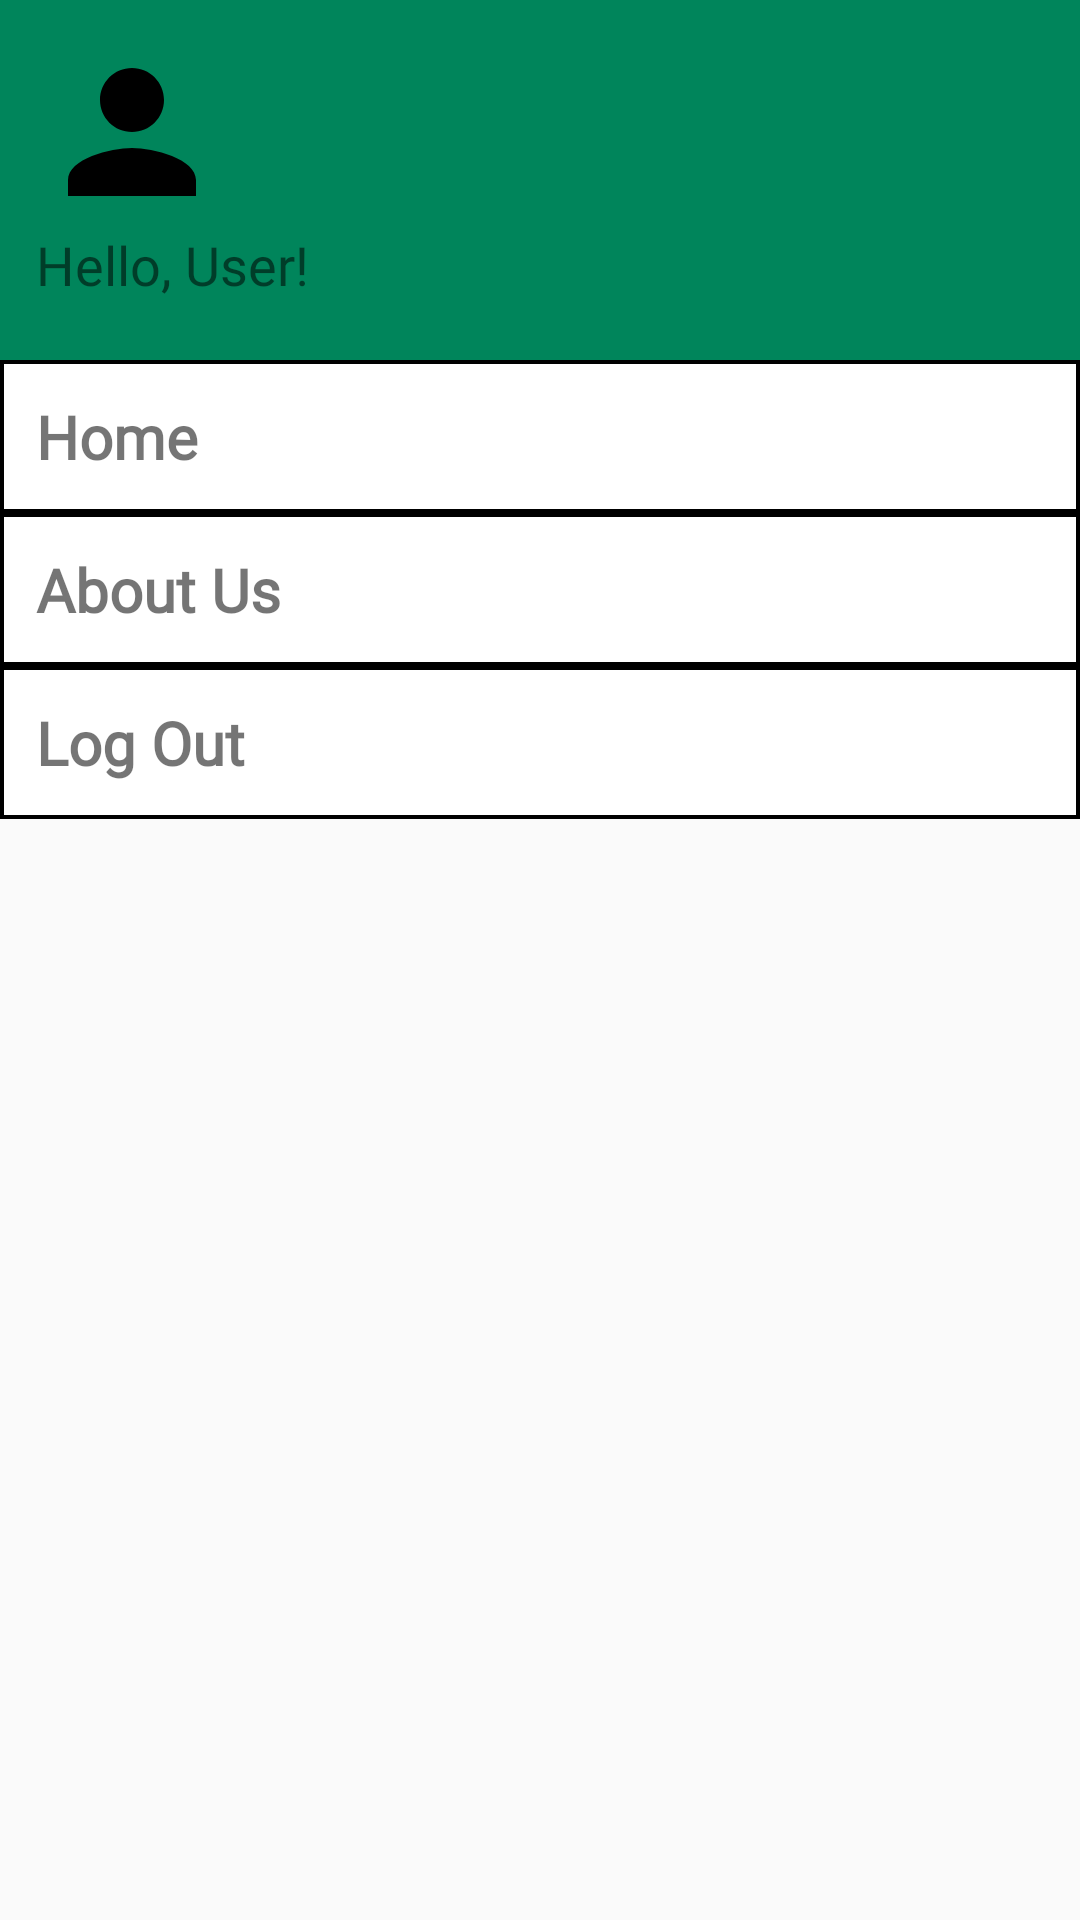

Screen size 1080 x 1920. Icon name, then its box in pixels as (x1, y1, x2, y2):
person: (68, 68, 196, 196)
